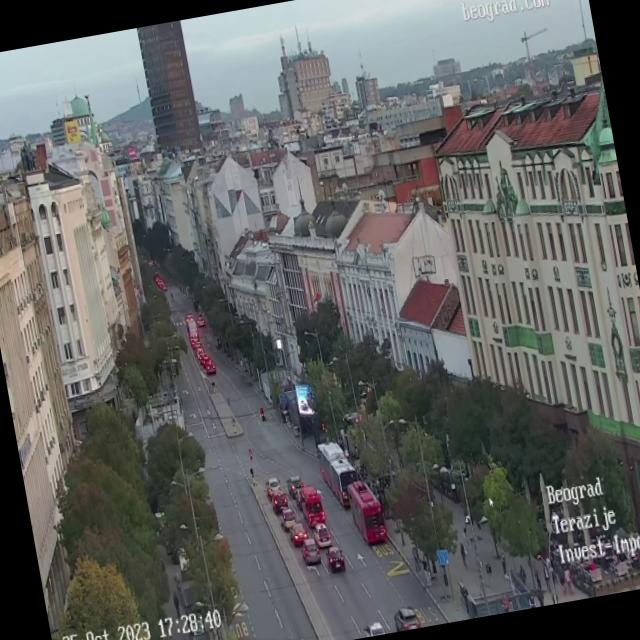bus: (348, 473, 390, 548), (314, 436, 359, 506), (299, 484, 326, 524)
car: (392, 604, 421, 630), (300, 540, 322, 566), (268, 486, 288, 512), (312, 521, 331, 547), (324, 548, 344, 570), (290, 520, 308, 544), (282, 509, 297, 536), (362, 620, 386, 636), (262, 474, 280, 492), (286, 474, 301, 494), (294, 486, 304, 506), (205, 360, 218, 375), (197, 316, 204, 327)
